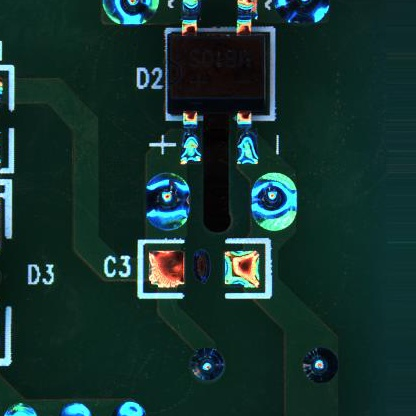spot: (143, 172, 191, 231), (250, 171, 297, 231)
